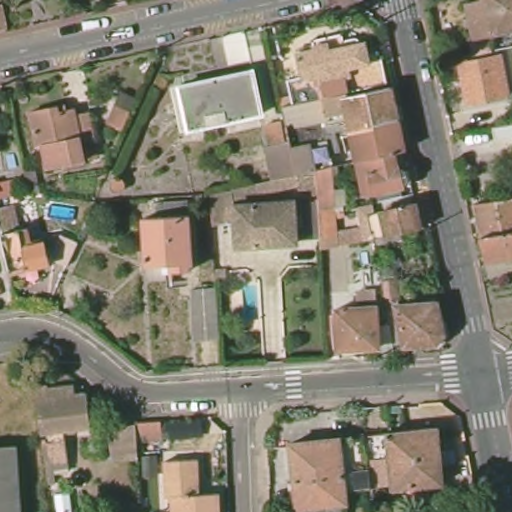pool: (43, 201, 82, 224), (241, 279, 265, 313)
